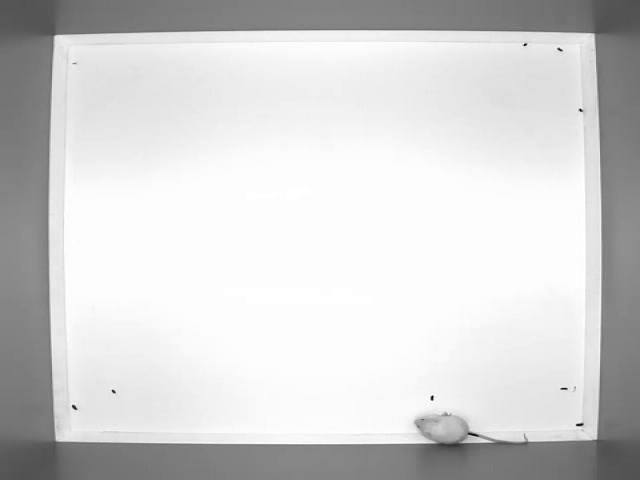Tikus: (412, 412, 529, 446)
